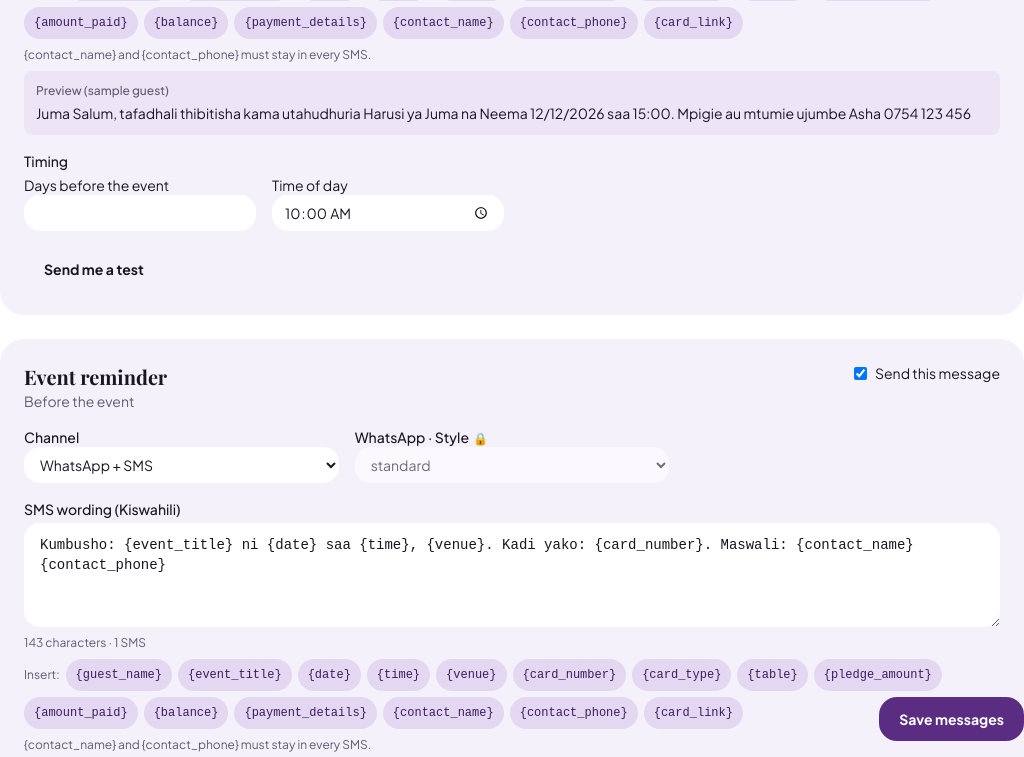
Test: MessageSettings › saves all settings with PUT and shows the result
(page scrolled)
Click the checkbox at (860, 373), box [854, 367, 867, 380]
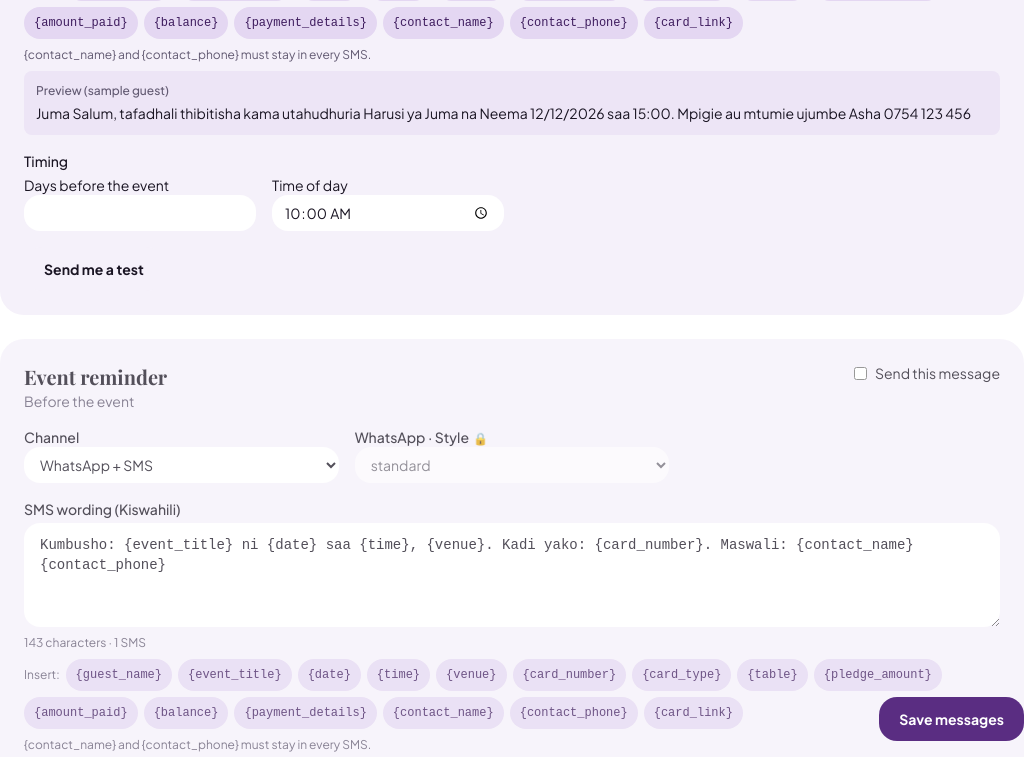
Click the button "Save messages" at (952, 719), box [879, 697, 1023, 741]
(page scrolled)
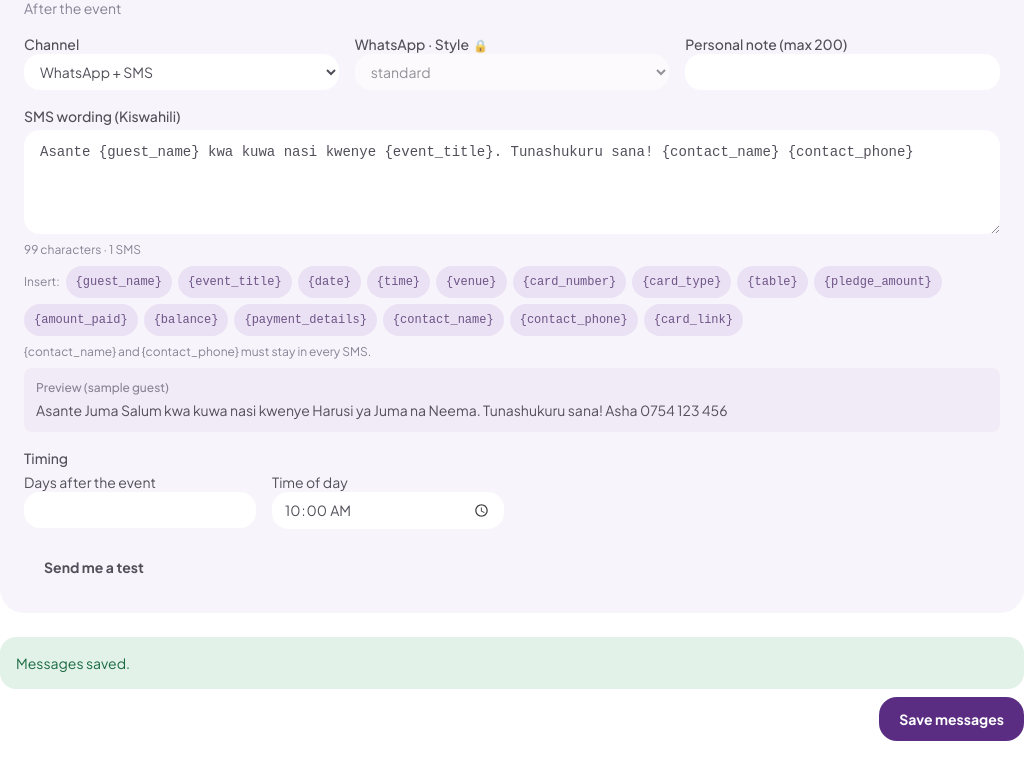
expect the text "Messages saved." is shown: met, box [0, 637, 1023, 689]
